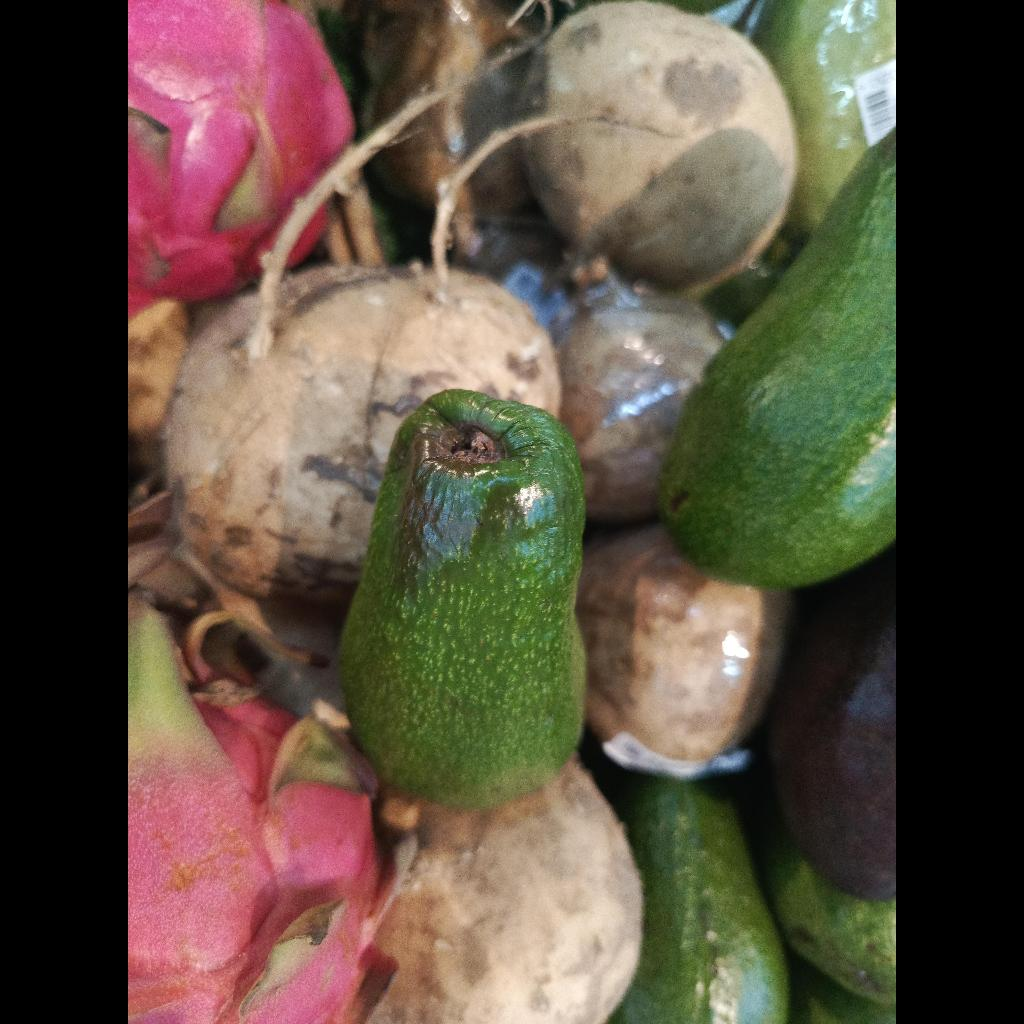pudricion_peduncular: (341, 389, 586, 809)
